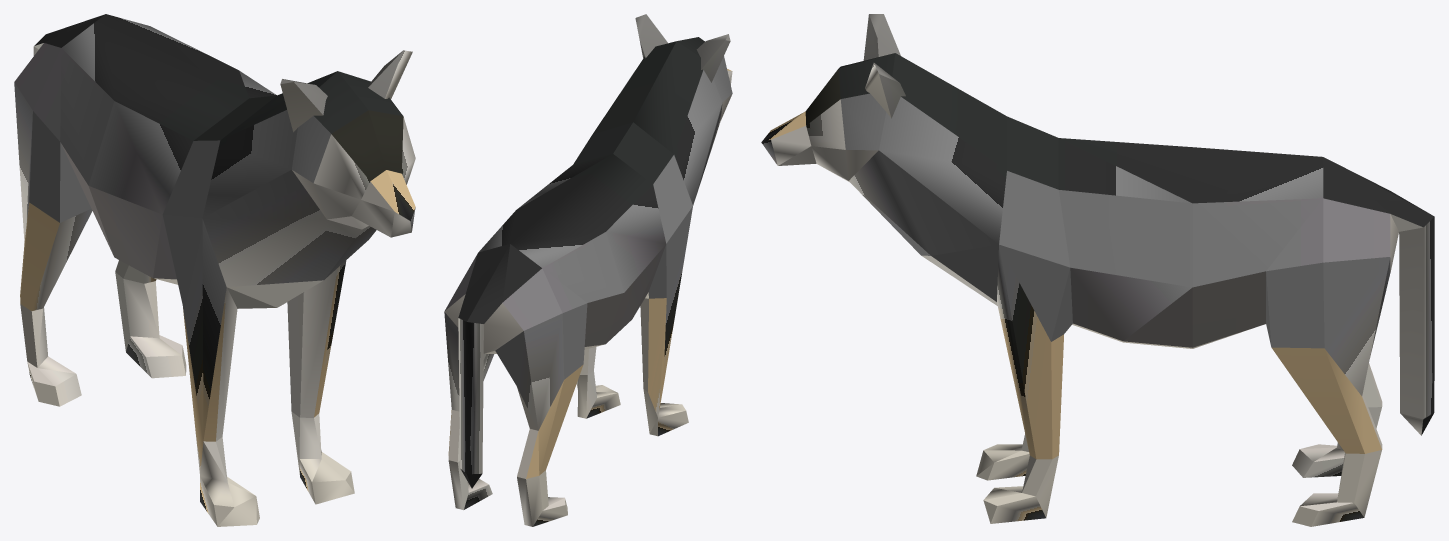
File: wolf.glb
The picture shows the model from 3 angles, left to right: view 1: azimuth 30°, elevation 25°; view 2: azimuth 150°, elevation 25°; view 3: azimuth 270°, elevation 25°; orthographic projection. The views are drawn at different scales.
Visible parts, largest first — view 1: Geo_Wolf; view 2: Geo_Wolf; view 3: Geo_Wolf.
Boxes of the visible parts, <box> form: Geo_Wolf: <box>14,14,415,526</box>; Geo_Wolf: <box>444,14,732,526</box>; Geo_Wolf: <box>761,14,1434,526</box>.
Bounding box in the file's own units: 50.02 × 134 × 179.
Materials: 1 (1 with a texture image).
